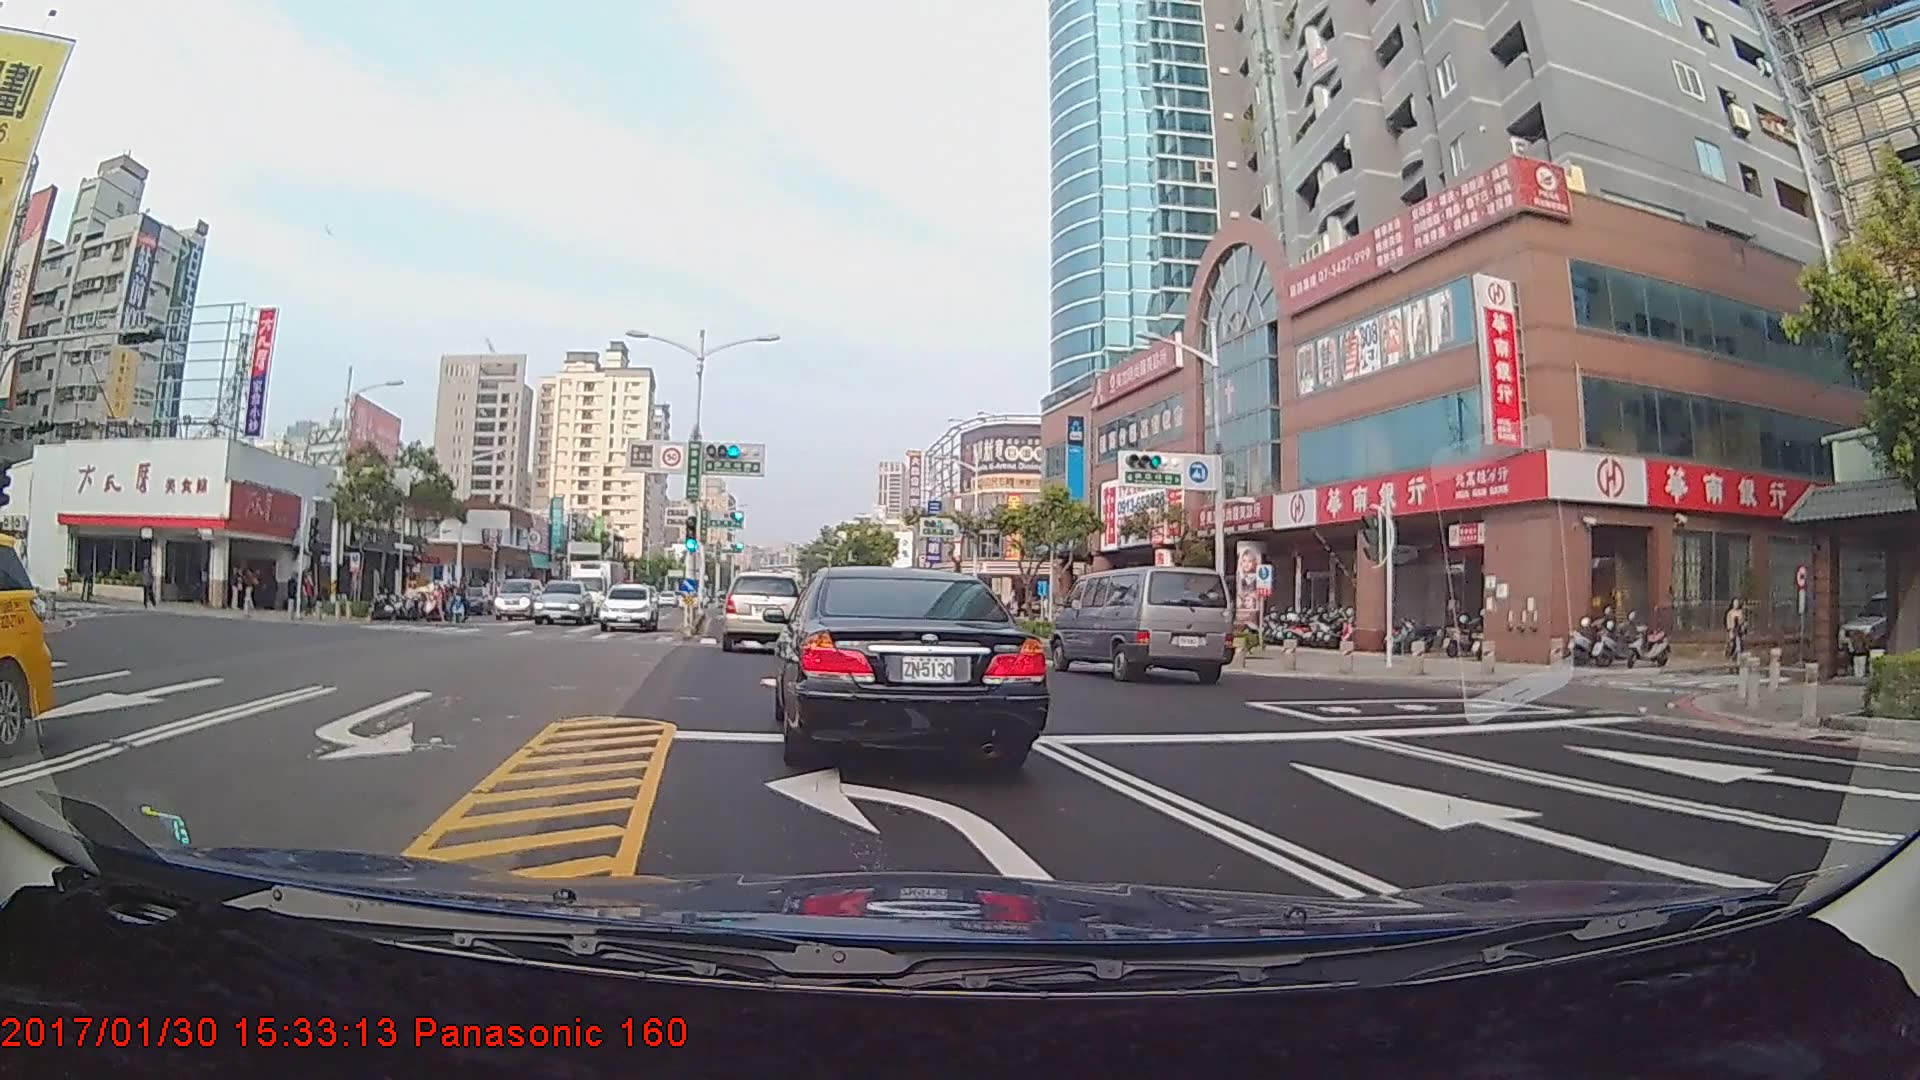pedestrian: (1724, 594, 1748, 663), (139, 558, 159, 611), (228, 564, 248, 615), (240, 568, 260, 616)
vehicle: (778, 558, 1039, 774), (1053, 562, 1232, 683), (0, 505, 49, 752), (719, 572, 803, 651), (575, 553, 632, 623), (532, 578, 598, 626), (599, 582, 660, 632), (495, 577, 550, 623)
